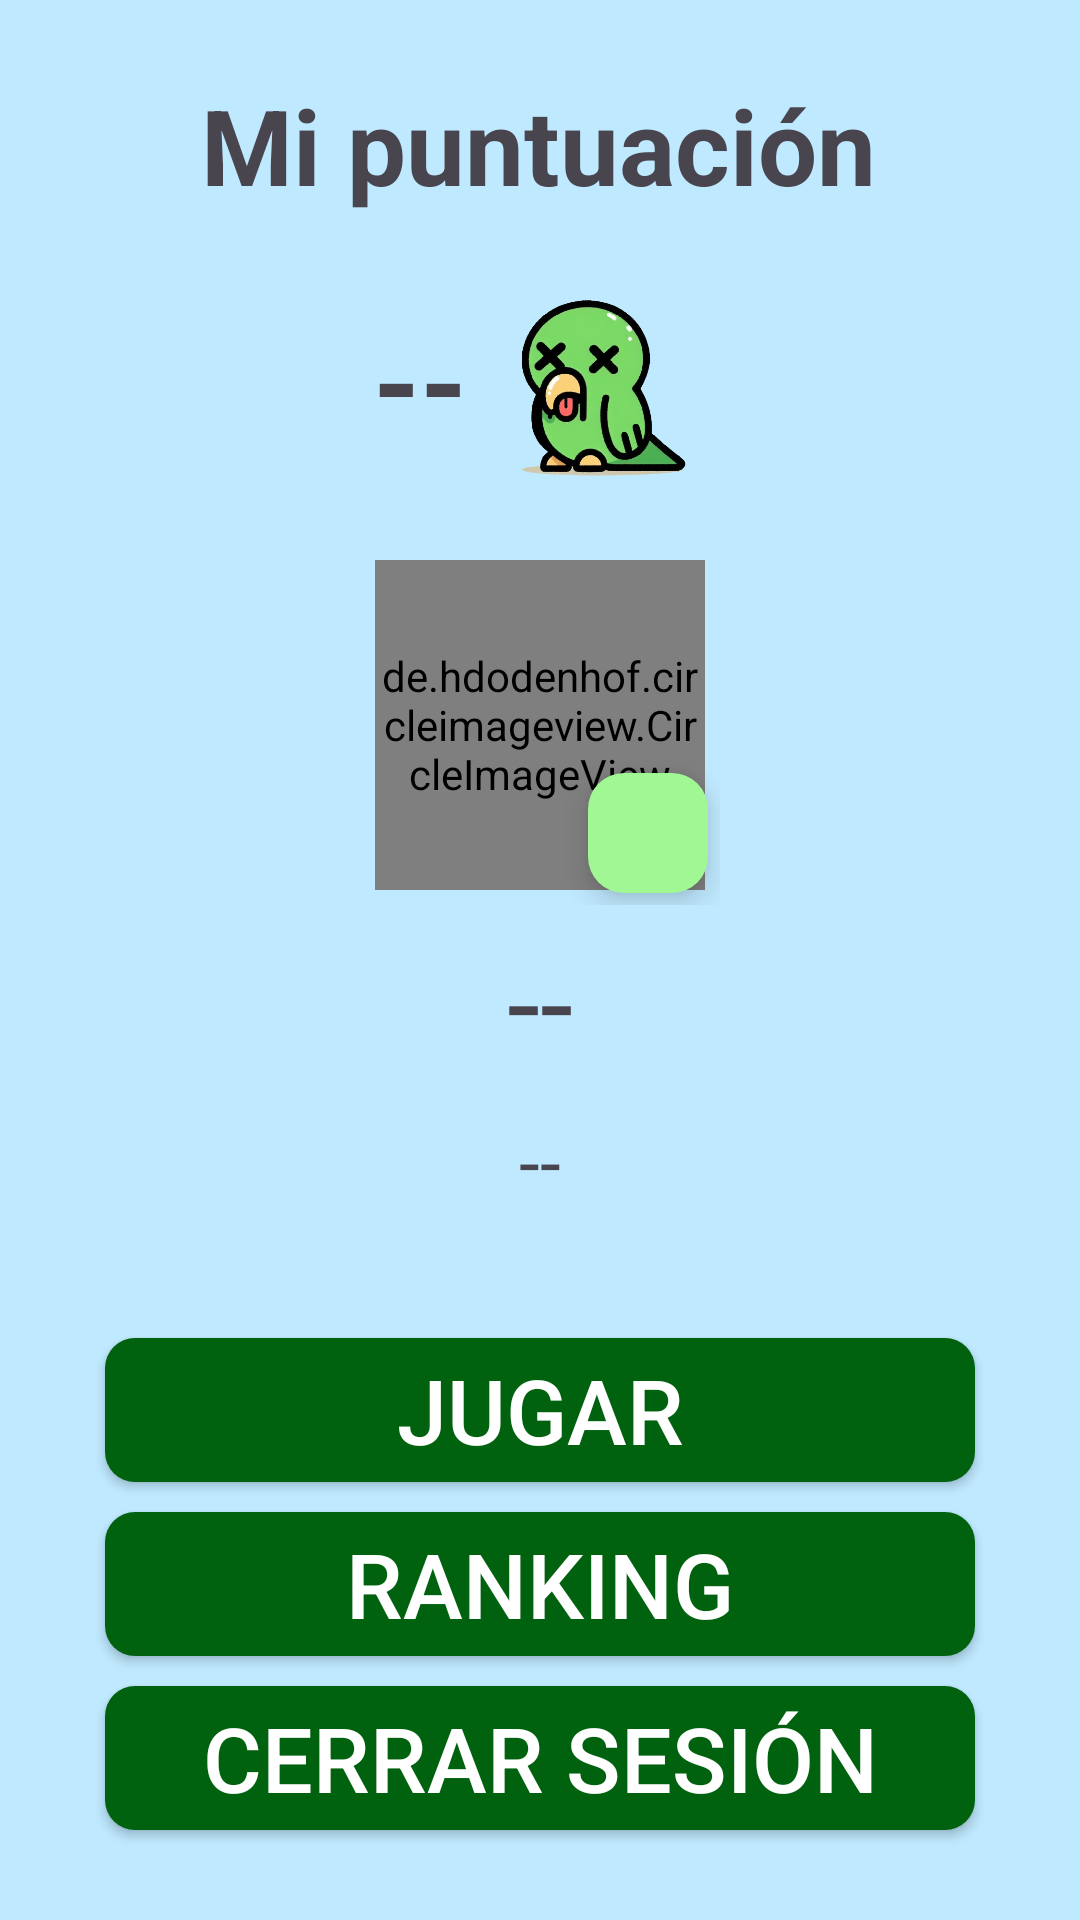

Icon bounding boxes for this 1080 x 1920 phone screenshot, format bbox(x1, y1, x2, y2):
cotorra dead: bbox(522, 300, 686, 476)
